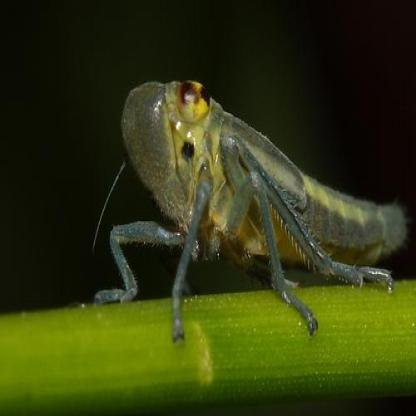Green-Leafhopper: (83, 72, 416, 342)
